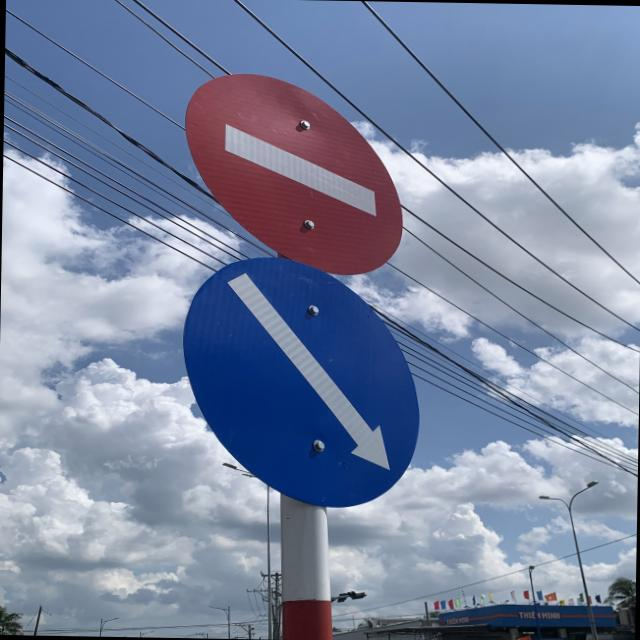Cam_Di_Nguoc_Chieu: (182, 70, 408, 274)
Chi_Huong_Di_Phai: (178, 253, 424, 509)
